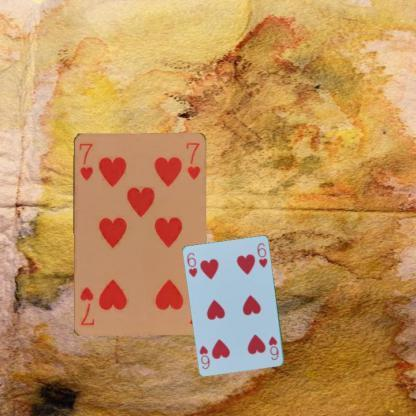6h: (184, 250, 199, 279), (266, 334, 281, 362)
7h: (76, 140, 94, 182)
